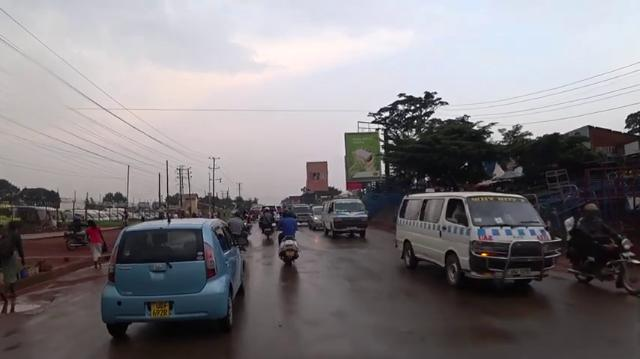car: (100, 224, 247, 335), (290, 204, 313, 227)
motorcycle: (566, 226, 640, 297), (1, 220, 26, 301), (276, 220, 299, 266), (64, 226, 90, 251), (259, 207, 276, 241), (159, 211, 165, 220)
van: (396, 189, 560, 289), (320, 197, 368, 237)
